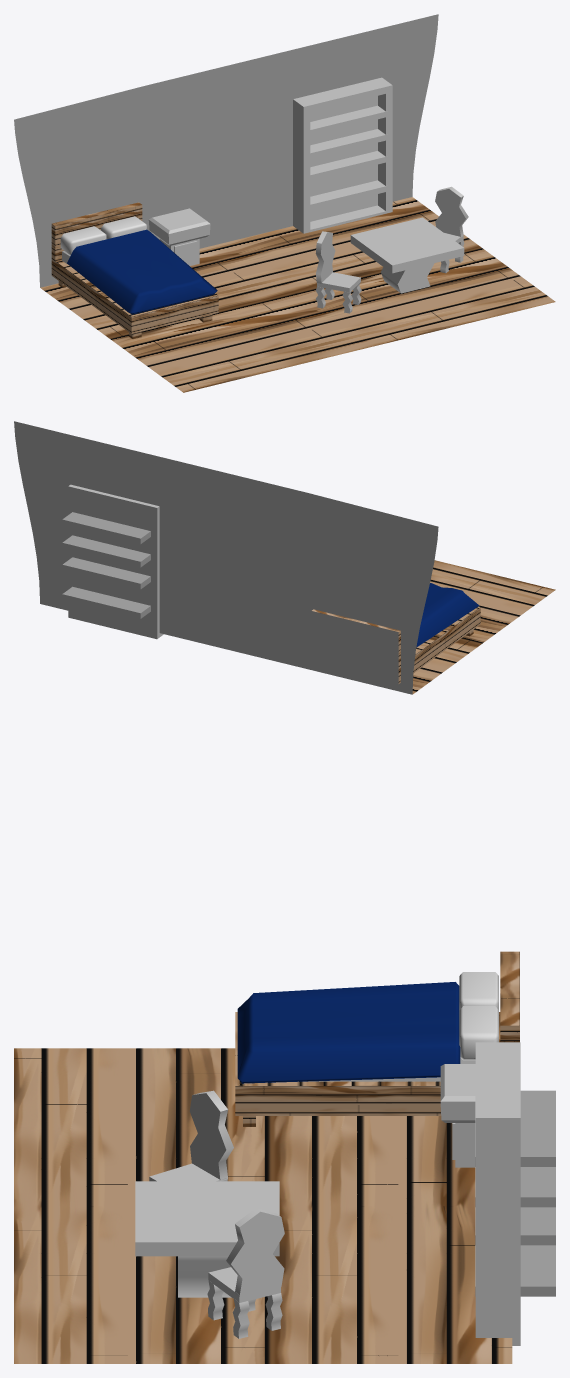
The model's file is coloredlonghousev1.fbx.
3 renders of one model, top to bottom at view 1: azimuth 30°, elevation 25°; view 2: azimuth 150°, elevation 25°; view 3: azimuth 270°, elevation 25°, orthographic. The views are drawn at different scales.
Parts seen in each view (by area): view 1: roofing1:pCube36, polySurface10, pCube32, pCube17, pCube16, pCube26, polySurface16, polySurface15; view 2: roofing1:pCube36, pCube32, polySurface10; view 3: roofing1:pCube36, polySurface10, pCube32, pCube17, pCube26, pCube16, polySurface16, polySurface15.
Boxes of the visible parts, x1,y1,x2,y2 form: roofing1:pCube36: (14,14,555,392); polySurface10: (51,202,218,338); pCube32: (293,77,392,233); pCube17: (350,217,464,293); pCube16: (148,208,210,265); pCube26: (435,186,468,273); polySurface16: (315,231,335,283); polySurface15: (317,272,360,292); roofing1:pCube36: (14,421,555,694); pCube32: (62,484,163,639); polySurface10: (311,583,480,684); roofing1:pCube36: (14,1048,512,1363); polySurface10: (235,951,519,1126); pCube32: (475,1042,555,1345); pCube17: (135,1181,279,1297); pCube26: (207,1208,284,1338); pCube16: (440,1064,475,1167); polySurface16: (189,1090,233,1181); polySurface15: (149,1163,227,1181).
Size of the model in its own units: 9.68 by 3.94 by 6.16.
